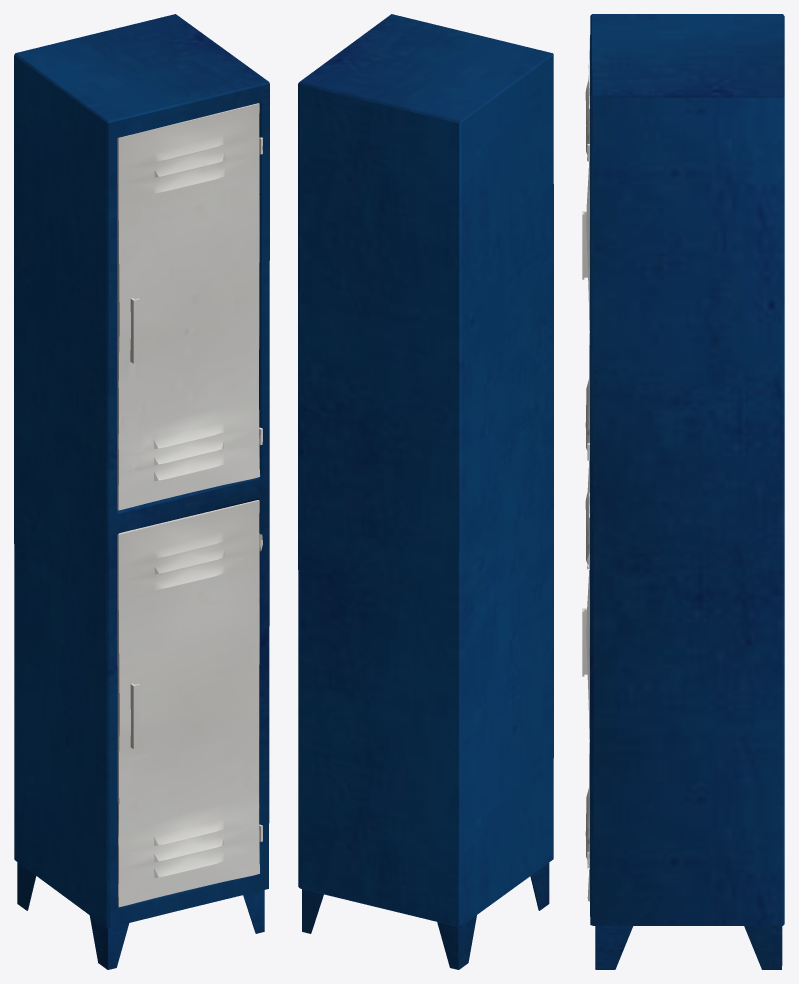
File: Lockers 1.FBX
3 views of the same model, side by side, from view 1: azimuth 30°, elevation 25°; view 2: azimuth 150°, elevation 25°; view 3: azimuth 270°, elevation 25° (orthographic). The views are drawn at different scales.
Visible parts, largest first — view 1: Lockers, door A, door B; view 2: Lockers; view 3: Lockers, door B, door A.
Boxes of the visible parts, box(x1,y1,x2,y2) form: Lockers: box(14, 14, 269, 969); door A: box(117, 500, 262, 907); door B: box(117, 103, 262, 510); Lockers: box(298, 14, 553, 969); Lockers: box(590, 14, 784, 969); door B: box(582, 37, 589, 492); door A: box(582, 491, 589, 901).
Bounding box in the file's own units: 38.43 × 191 × 39.96.
Materials: 2 (2 with a texture image).
